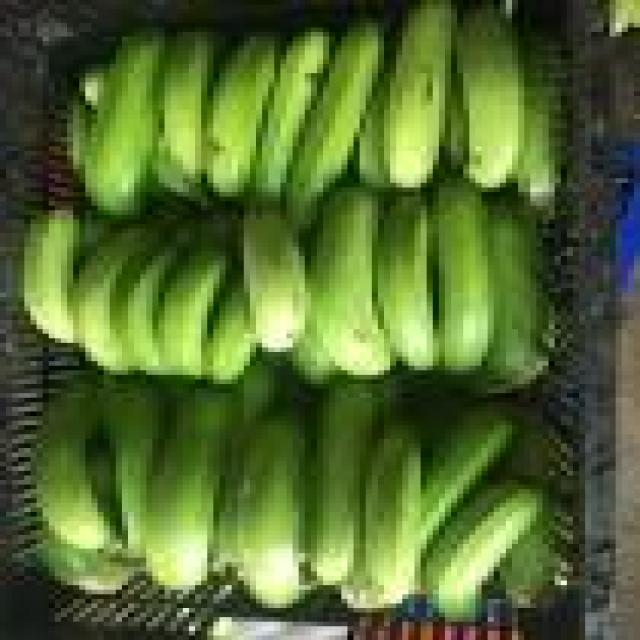banana: (287, 23, 383, 223), (147, 384, 231, 589), (427, 480, 542, 621), (305, 380, 377, 585), (311, 188, 390, 374), (86, 32, 164, 214), (421, 407, 518, 553), (482, 197, 554, 388), (232, 416, 304, 607), (250, 28, 329, 201), (384, 0, 457, 187), (37, 380, 115, 553), (500, 421, 572, 607), (214, 362, 274, 571), (74, 229, 158, 374), (98, 375, 164, 557), (458, 5, 524, 187), (433, 179, 493, 374), (208, 37, 280, 196), (360, 426, 420, 607), (378, 192, 438, 370), (116, 238, 188, 374), (159, 238, 225, 379), (244, 211, 310, 351), (165, 32, 219, 182), (25, 211, 79, 342), (519, 37, 560, 205), (500, 499, 560, 607), (86, 407, 127, 557), (37, 531, 134, 594), (208, 279, 255, 383), (360, 78, 390, 187), (153, 133, 201, 201), (445, 64, 469, 169), (293, 325, 335, 383), (68, 96, 91, 173), (80, 64, 109, 109), (610, 0, 639, 36)
